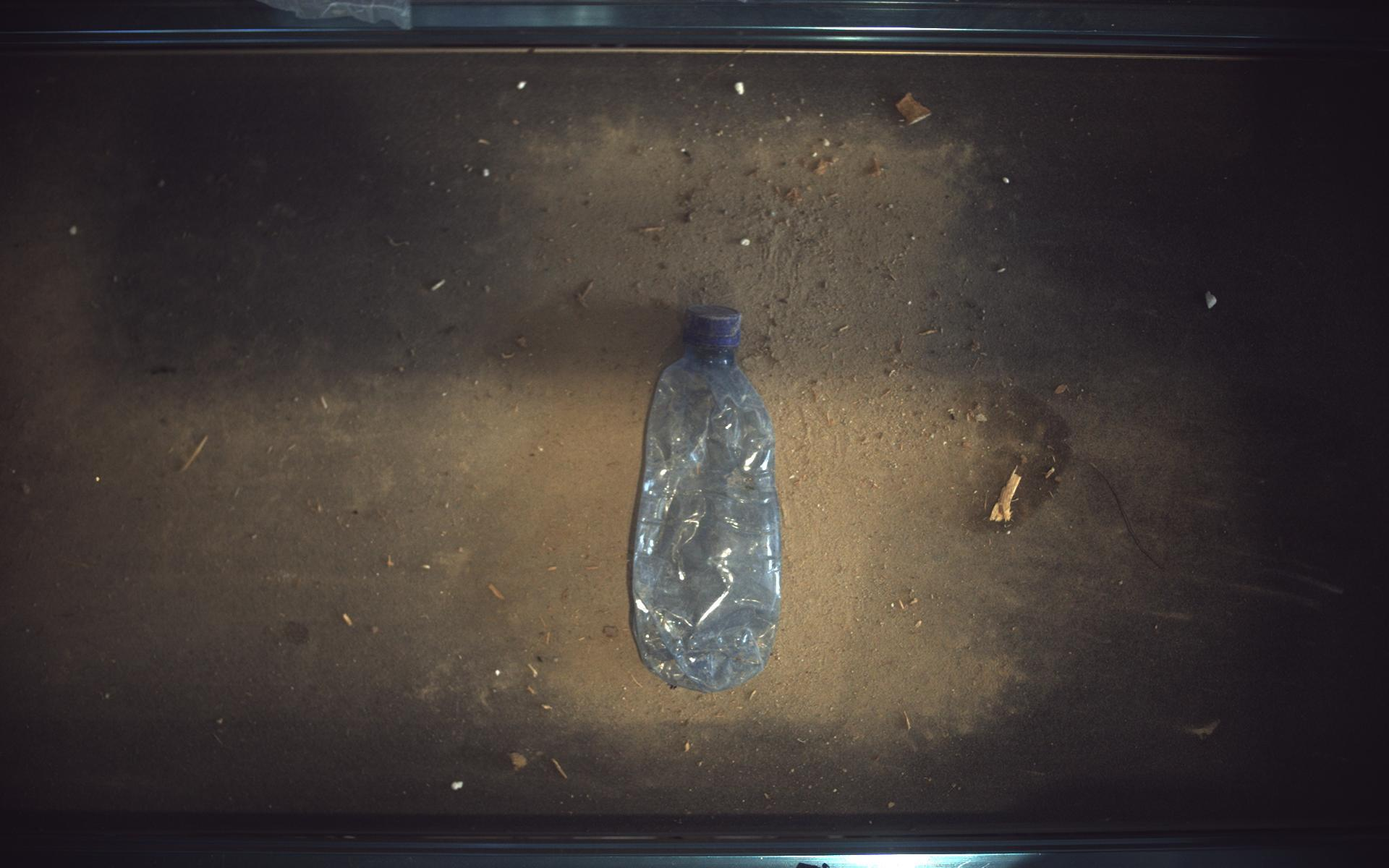general_w: (632, 305, 782, 693)
